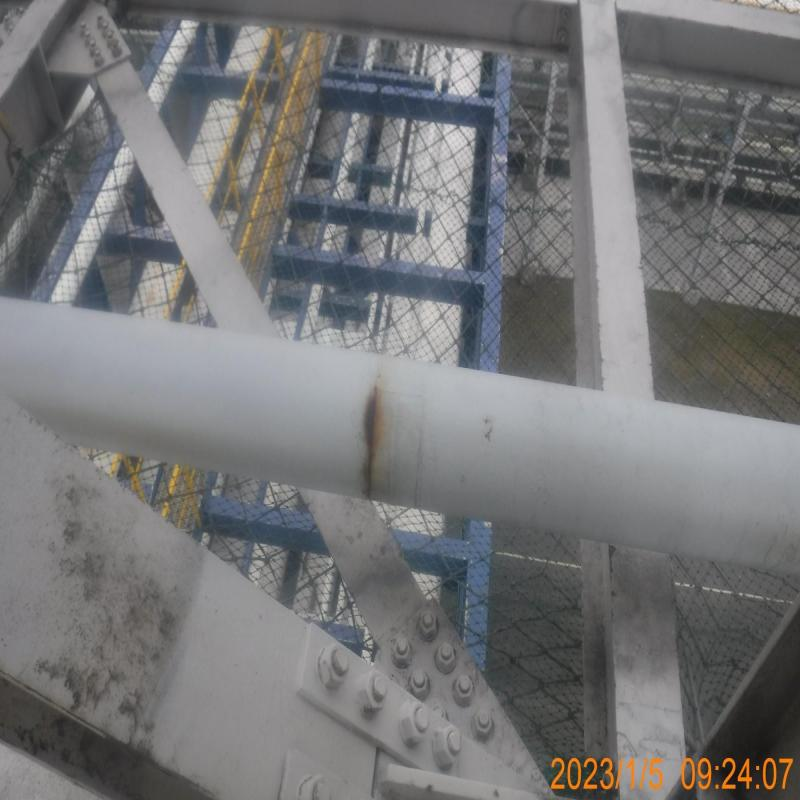corrosion: (357, 391, 383, 502)
